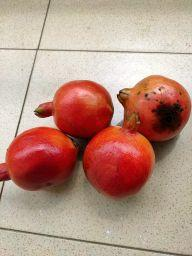pomegranate: (83, 113, 155, 201), (118, 74, 191, 143), (0, 127, 80, 189), (34, 79, 114, 140)
